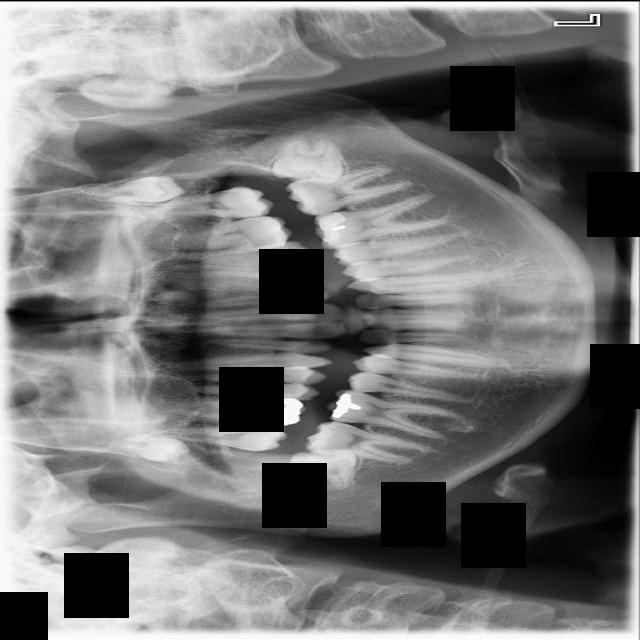3M ESPE Implant: (106, 432, 191, 463)
52: (325, 388, 363, 420), (318, 209, 351, 245), (273, 395, 305, 427)
73: (550, 51, 574, 64)
BioHorizons Implant: (139, 185, 276, 217)
BioLife Implant: (83, 174, 185, 205)
Biomet 3i Implant: (271, 137, 345, 184)
Blue Sky Bio Implant: (284, 160, 414, 220)
Caries: (149, 424, 289, 455)
Implant: (305, 416, 430, 468)
Keystone Dental Implant: (289, 447, 360, 493)
